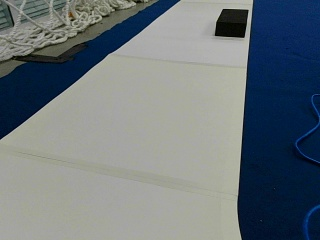block: (215, 8, 248, 36)
